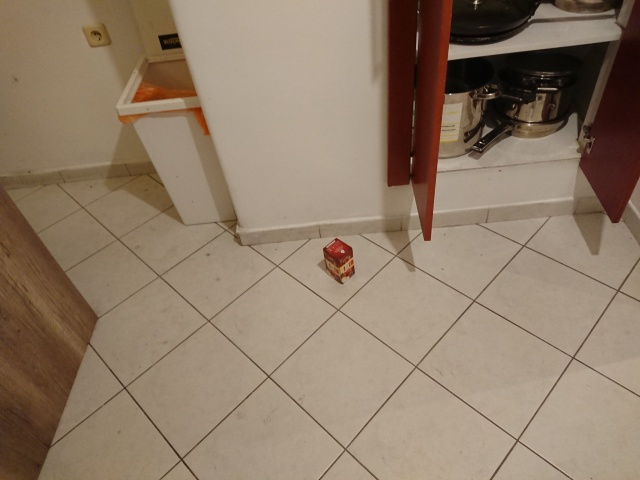Franck Apple Cinnamon Tea 60g: (320, 235, 358, 286)
